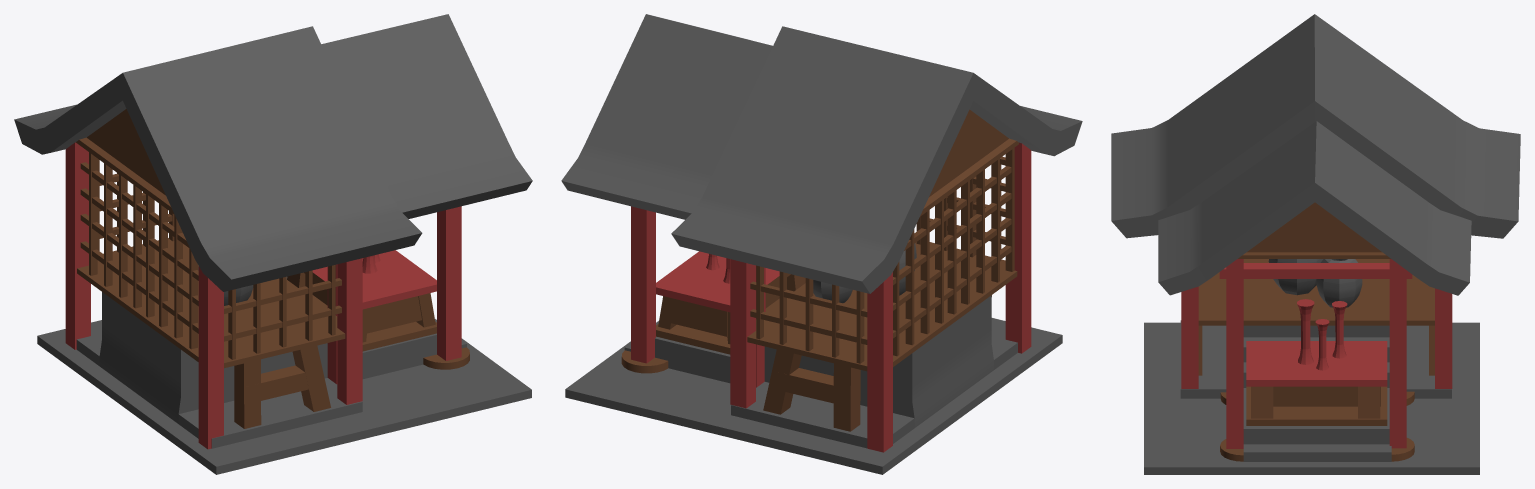
Rendered from shrineSmallOff.fbx.
3 views of the same model, side by side, from view 1: azimuth 30°, elevation 25°; view 2: azimuth 150°, elevation 25°; view 3: azimuth 270°, elevation 25° (orthographic). The views are drawn at different scales.
Visible parts, largest first — view 1: shrineSmall1; view 2: shrineSmall1; view 3: shrineSmall1.
Boxes of the visible parts, box(x1,y1,x2,y2) form: shrineSmall1: box(14, 14, 532, 474); shrineSmall1: box(561, 14, 1082, 474); shrineSmall1: box(1111, 14, 1520, 474).
Size of the model in its own units: 1.3 by 1.27 by 1.5.
